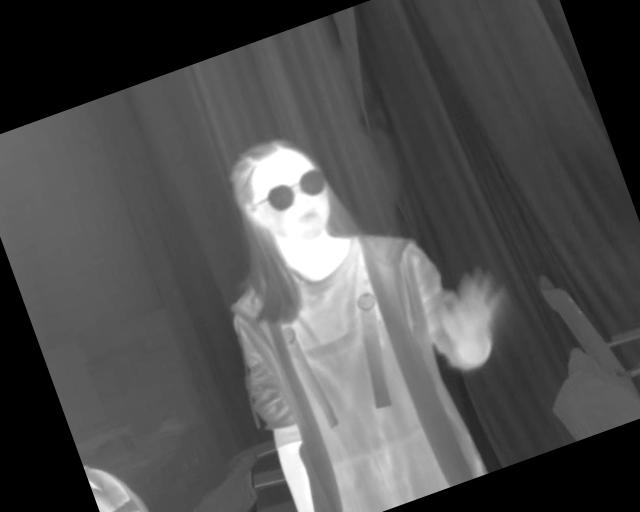face: (224, 126, 344, 261)
